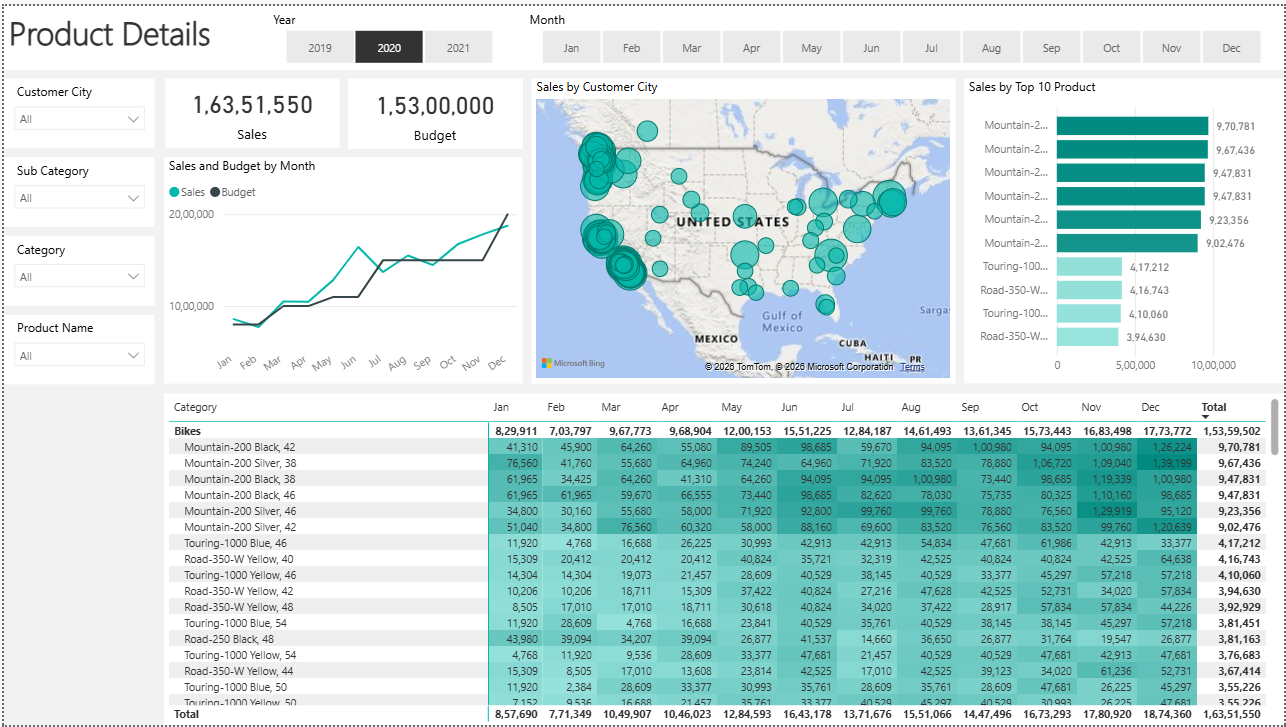

The page's visual inventory and layout, read from the dashboard file:
{"tool":"powerbi","page":{"name":"Product Details","canvas":[1280,720],"ordinal":2},"visuals":[{"type":"textbox","box":[0,0,1280,64],"z":0},{"type":"slicer","fields":{"Values":["DIM_Calendar.Year"]},"box":[256,0,256,64],"z":1000},{"type":"slicer","fields":{"Values":["DIM_Calendar.MonthShort"]},"box":[512,0,768,64],"z":2000},{"type":"slicer","fields":{"Values":["DIM_Customers.Customer City"]},"box":[0,73,150.5,69.3],"z":3000},{"type":"slicer","fields":{"Values":["DIM_Products.Product Category"]},"box":[0,229.9,150.5,69.3],"z":4000},{"type":"slicer","fields":{"Values":["DIM_Products.Product Name"]},"box":[0,308.4,150.5,69.3],"z":5000},{"type":"slicer","fields":{"Values":["DIM_Products.Sub Category"]},"box":[0,151.4,150.5,69.3],"z":6000},{"type":"lineChart","fields":{"Category":["DIM_Calendar.MonthShort"],"Y":["Analysis Metrics.Sales","Analysis Metrics.Budget"]},"box":[159.8,151.8,358.7,226.4],"z":7000},{"type":"card","fields":{"Values":["Analysis Metrics.Sales"]},"box":[160.7,72.8,174,69.2],"z":8000},{"type":"map","fields":{"Category":["DIM_Customers.Customer City"],"Size":["Analysis Metrics.Sales"]},"box":[527.3,72.8,423.5,304.5],"z":9000},{"type":"card","fields":{"Values":["Analysis Metrics.Budget"]},"box":[343.6,72.8,174.9,70.1],"z":10000},{"type":"pivotTable","fields":{"Columns":["DIM_Calendar.MonthShort"],"Rows":["DIM_Products.Product Category","DIM_Products.Product Name"],"Values":["Analysis Metrics.Sales"]},"box":[159.8,387.1,1120.4,332.9],"z":11000},{"type":"clusteredBarChart","title":"Sales by Top 10 Product","fields":{"Category":["DIM_Products.Product Name"],"Y":["Analysis Metrics.Sales"]},"box":[959.7,72.8,320.5,304.5],"z":12000}]}

Visuals, with their boxes in screenshot pixels (x1, y1, x2, y2), scaled from the page's 1280x720 canvas onto the 1286x727 screenshot:
textbox: (0,0,1285,65)
slicer - DIM_Calendar.Year: (257,0,514,65)
slicer - DIM_Calendar.MonthShort: (514,0,1285,65)
slicer - DIM_Customers.Customer City: (0,74,151,144)
slicer - DIM_Products.Product Category: (0,232,151,302)
slicer - DIM_Products.Product Name: (0,311,151,381)
slicer - DIM_Products.Sub Category: (0,153,151,223)
lineChart - DIM_Calendar.MonthShort x Analysis Metrics.Sales: (161,153,521,382)
card - Analysis Metrics.Sales: (161,74,336,143)
map - DIM_Customers.Customer City x Analysis Metrics.Sales: (530,74,955,381)
card - Analysis Metrics.Budget: (345,74,521,144)
pivotTable - DIM_Calendar.MonthShort x DIM_Products.Product Category: (161,391,1285,726)
"Sales by Top 10 Product" clusteredBarChart: (964,74,1285,381)
